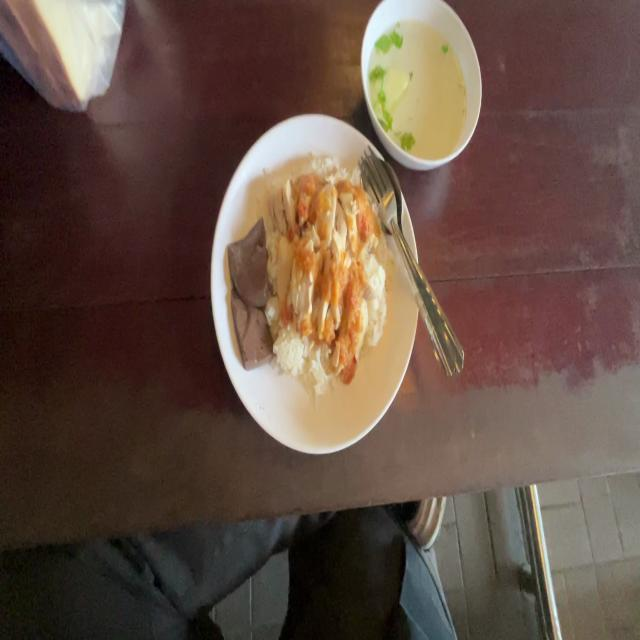boiled_chicken: (275, 183, 365, 328)
boiled_chicken_blood_jelly: (226, 217, 271, 305), (229, 285, 271, 366)
chicken_rice: (231, 150, 391, 402)
